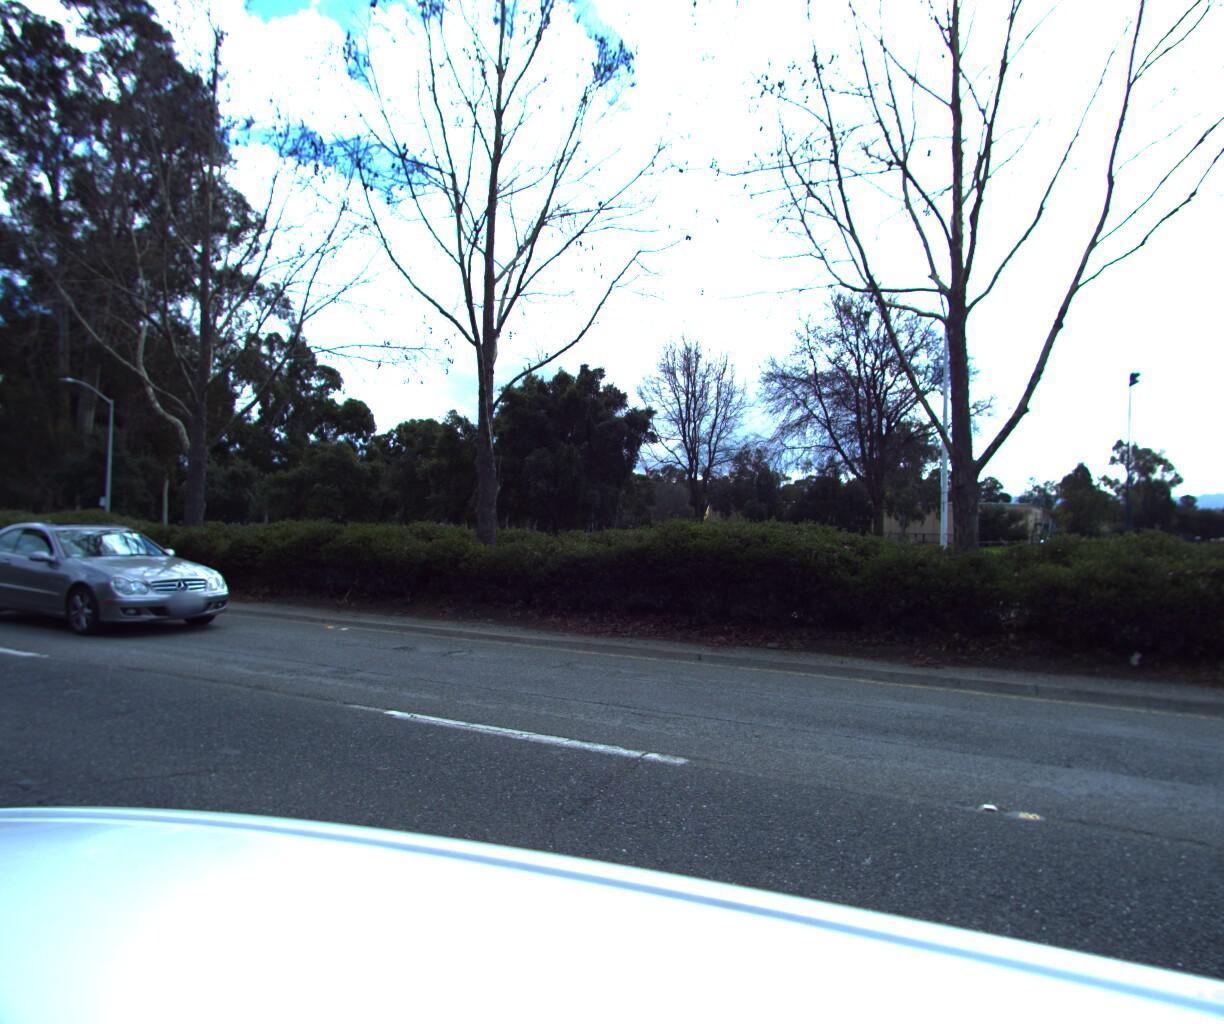car: (0, 520, 251, 649), (1170, 529, 1224, 661)
